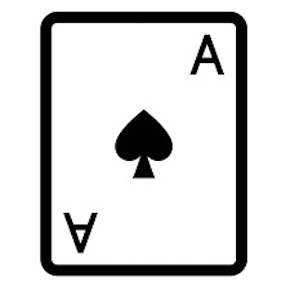AceOfSpades: (37, 8, 252, 278)
